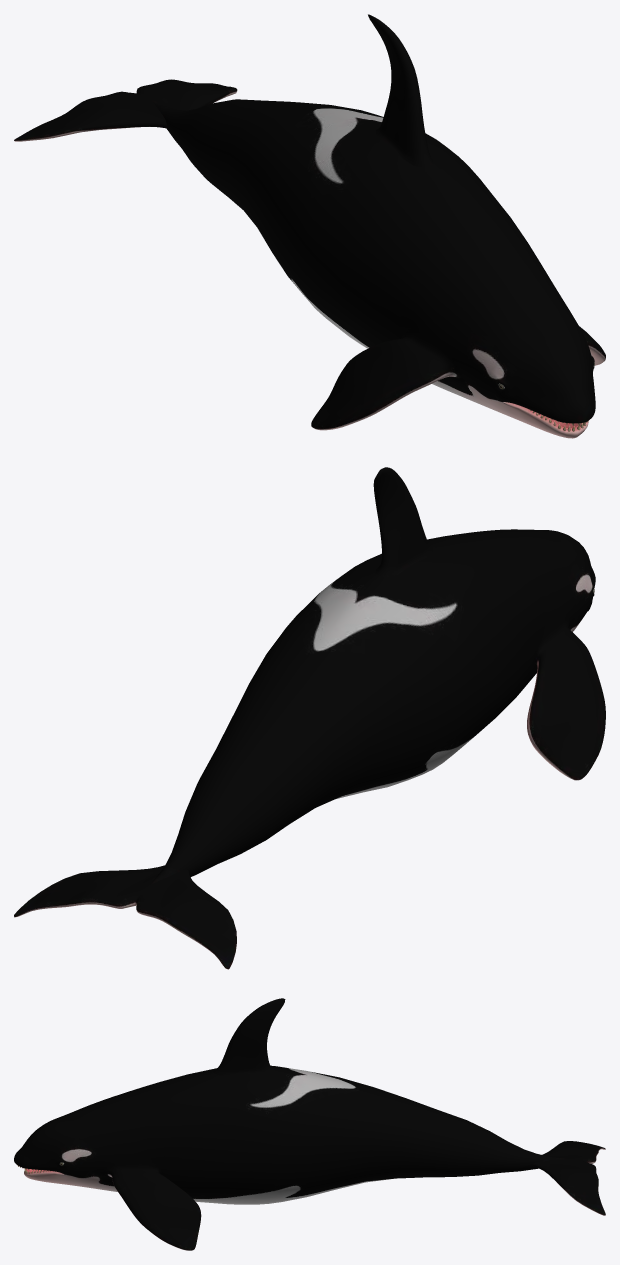
3 renders of one model, top to bottom at view 1: azimuth 30°, elevation 25°; view 2: azimuth 150°, elevation 25°; view 3: azimuth 270°, elevation 25°, orthographic. The views are drawn at different scales.
Parts seen in each view (by area): view 1: MS_Orca; view 2: MS_Orca; view 3: MS_Orca.
Boxes of the visible parts, x1,y1,x2,y2 form: MS_Orca: [14, 14, 605, 438]; MS_Orca: [14, 467, 605, 969]; MS_Orca: [14, 998, 605, 1250].
Size of the model in its own units: 1.67 by 1.92 by 4.93.
Materials: 1 (1 with a texture image).
